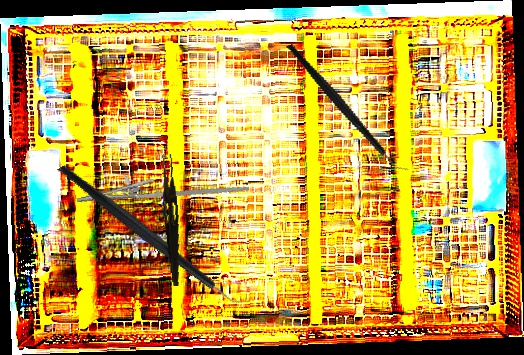Chopper: (56, 117, 254, 352), (285, 20, 412, 195)
Dressing Forceps: (157, 153, 186, 287)
Needle Holder: (73, 152, 250, 224)
